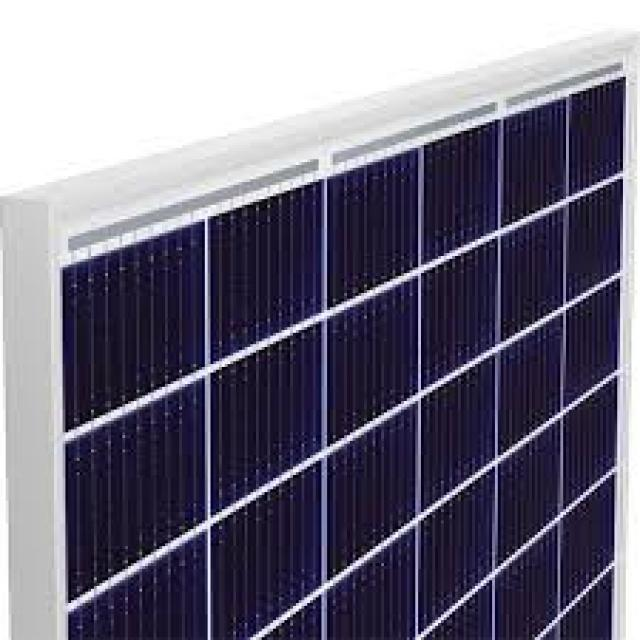no faulty: (39, 83, 639, 640)
